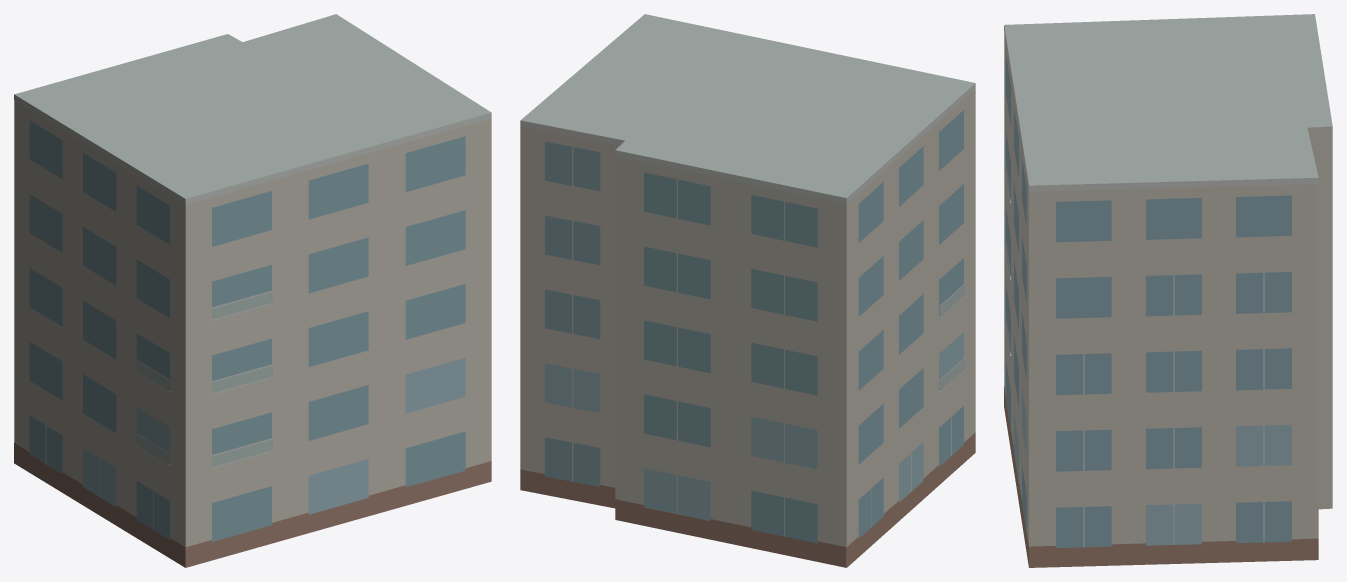
File: survey-upis-32782069.glb
3 views of the same model, side by side, from view 1: azimuth 30°, elevation 25°; view 2: azimuth 150°, elevation 25°; view 3: azimuth 270°, elevation 25° (orthographic). The views are drawn at different scales.
Parts seen in each view (by area): view 1: survey-upis-32782069.tmp; view 2: survey-upis-32782069.tmp; view 3: survey-upis-32782069.tmp.
Part boxes in pixels (x1=…): survey-upis-32782069.tmp: x1=14, y1=14, x2=491, y2=567; survey-upis-32782069.tmp: x1=520, y1=14, x2=975, y2=567; survey-upis-32782069.tmp: x1=1004, y1=14, x2=1332, y2=567.
Size of the model in its own units: 14.5 by 15.05 by 11.73.
